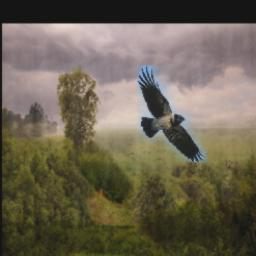Crow: (137, 66, 207, 163)
